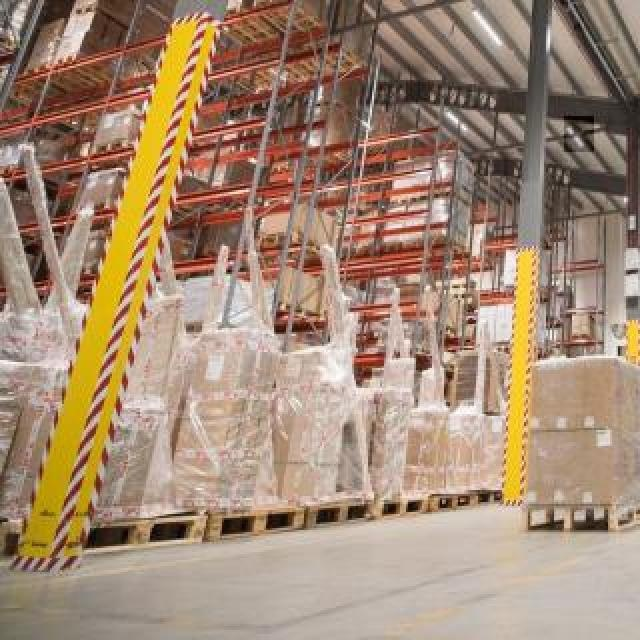fluorescent tube: (430, 0, 526, 64), (437, 86, 483, 135), (563, 122, 592, 146)
